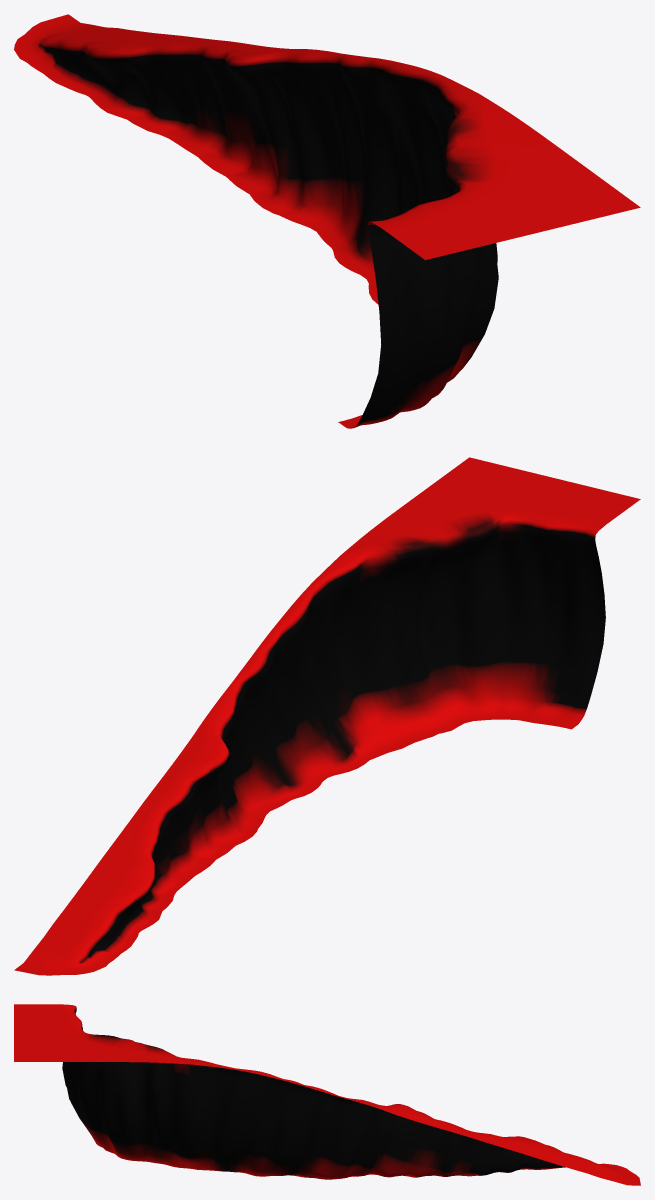
File: ClimbCliff02B 2M Foreground.fbx
3 renders of one model, top to bottom at view 1: azimuth 30°, elevation 25°; view 2: azimuth 150°, elevation 25°; view 3: azimuth 270°, elevation 25°, orthographic. The views are drawn at different scales.
Visible parts, largest first — view 1: ClimbCliff02B 2M Foreground; view 2: ClimbCliff02B 2M Foreground; view 3: ClimbCliff02B 2M Foreground.
Boxes of the visible parts, box(x1,y1,x2,y2) form: ClimbCliff02B 2M Foreground: box(14, 14, 640, 428); ClimbCliff02B 2M Foreground: box(14, 457, 640, 975); ClimbCliff02B 2M Foreground: box(14, 1004, 640, 1185).
Size of the model in its own units: 2.07 by 2 by 9.19.
